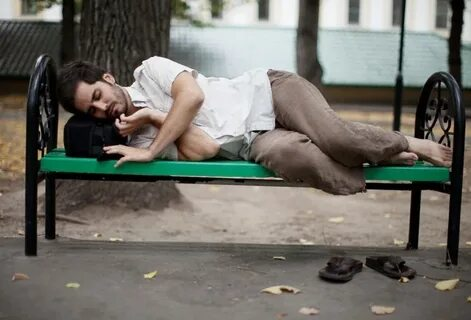sleep: (55, 54, 444, 195)
